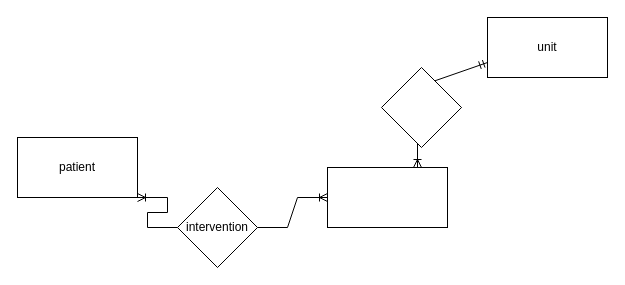
This 625x285 diagram has some shape labels left out. Here are the shapes that lost their labels. From the top down, the box of each, then its label:
(380, 66, 462, 148): works at
(326, 166, 448, 228): doctor
